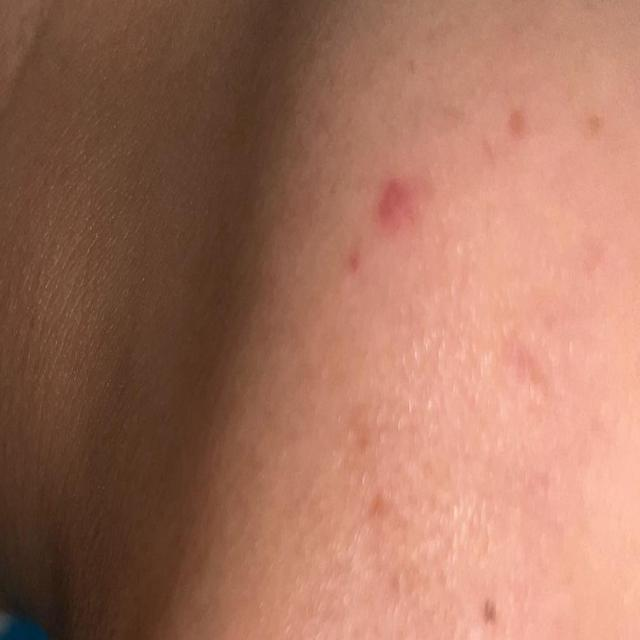papule: (335, 144, 443, 297)
